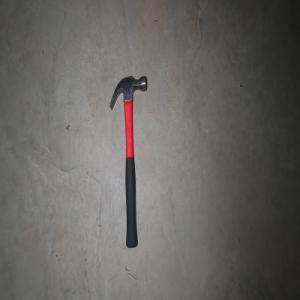Hammer: (109, 74, 147, 248)
